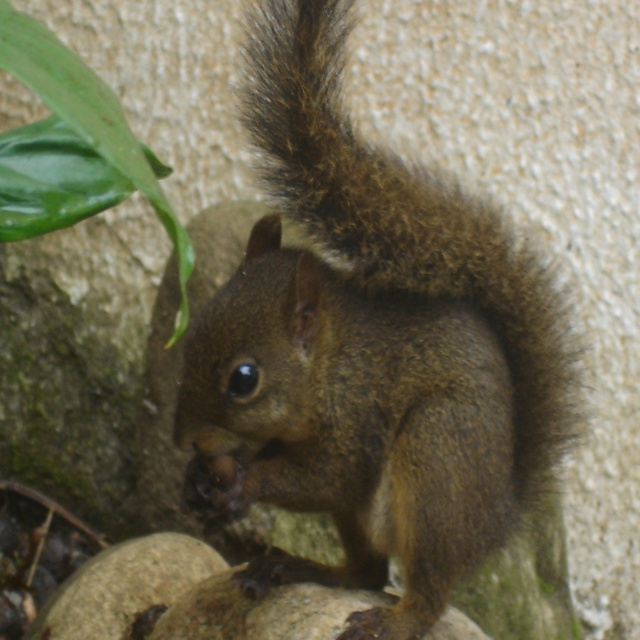Squirrel: (174, 1, 595, 640)
